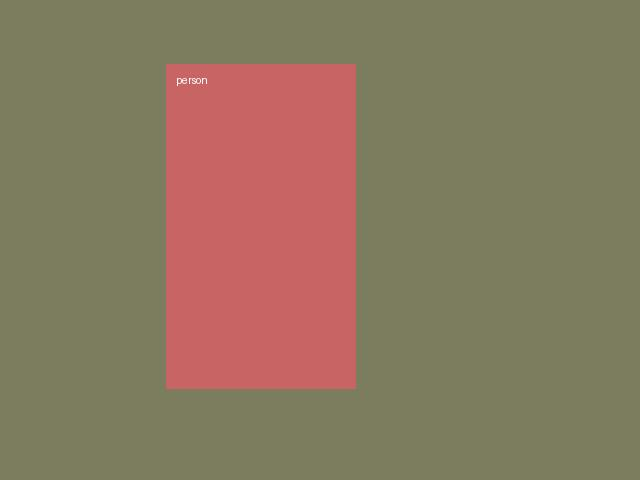person: (166, 64, 355, 388)
